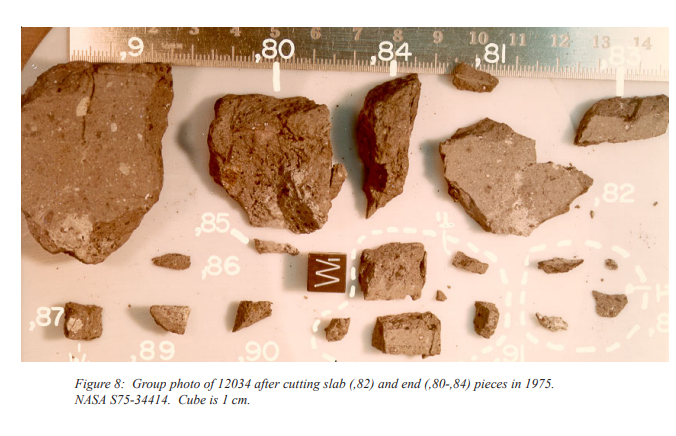Breccia: (19, 44, 147, 286), (178, 85, 349, 233), (406, 110, 584, 216), (43, 297, 353, 339), (579, 89, 661, 146), (380, 91, 423, 199), (366, 306, 461, 339)
